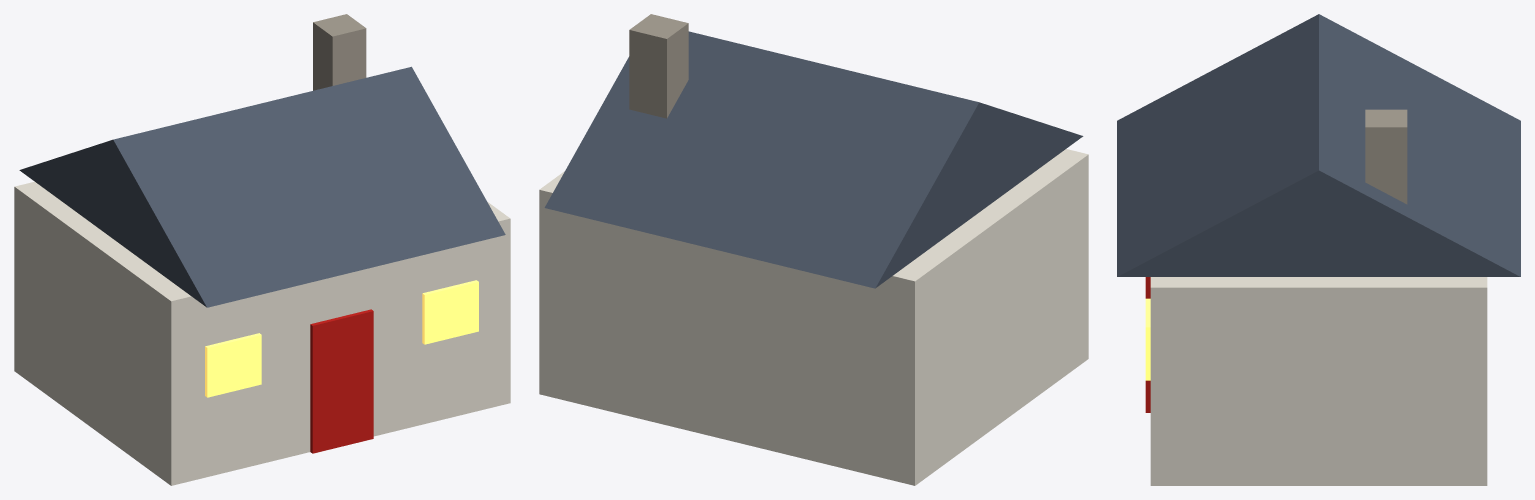
The model's file is keeper_house.glb.
3 views of the same model, side by side, from view 1: azimuth 30°, elevation 25°; view 2: azimuth 150°, elevation 25°; view 3: azimuth 270°, elevation 25° (orthographic). The views are drawn at different scales.
Visible parts, largest first — view 1: keeper_house; view 2: keeper_house; view 3: keeper_house.
Part boxes in pixels (bbox=[...]): keeper_house: bbox=[14, 14, 510, 485]; keeper_house: bbox=[539, 14, 1088, 485]; keeper_house: bbox=[1117, 14, 1520, 485].
Size of the model in its own units: 5 by 4.4 by 4.8.
